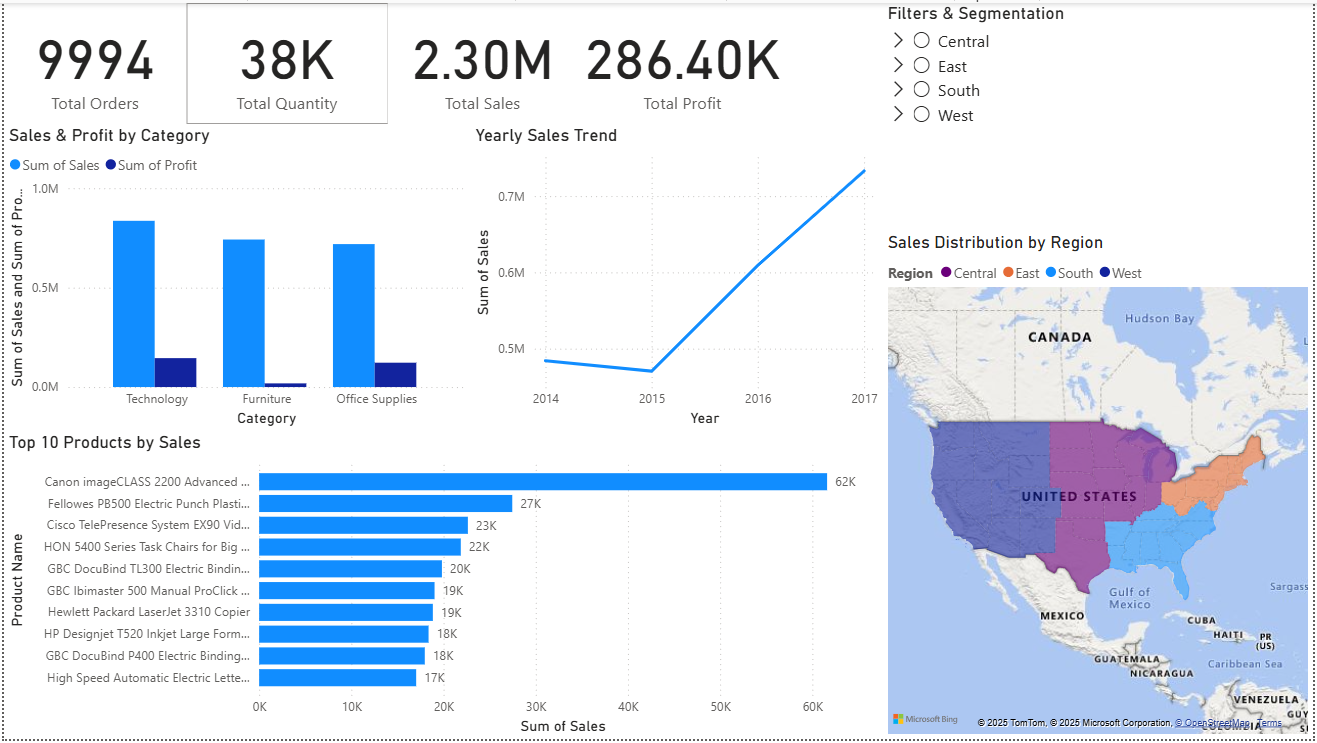

The page's visual inventory and layout, read from the dashboard file:
{"tool":"powerbi","page":{"name":"Overview Dashboard","canvas":[1280,720],"ordinal":0},"visuals":[{"type":"card","fields":{"Values":["CountNonNull(superstore_clean.Order ID)"]},"box":[0,0,178.5,118.6],"z":0},{"type":"card","fields":{"Values":["Sum(superstore_clean.Quantity)"]},"box":[178.5,0,196.9,118.6],"z":1000},{"type":"card","fields":{"Values":["Sum(superstore_clean.Profit)"]},"box":[561.3,0,205.4,118.6],"z":2000},{"type":"card","fields":{"Values":["Sum(superstore_clean.Sales)"]},"box":[375.4,0,185.9,118.6],"z":3000},{"type":"lineChart","title":"Yearly Sales Trend","fields":{"Category":["superstore_clean.Order Date.Variation.Date Hierarchy.Year","superstore_clean.Order Date.Variation.Date Hierarchy.Quarter","superstore_clean.Order Date.Variation.Date Hierarchy.Month","superstore_clean.Order Date.Variation.Date Hierarchy.Day"],"Y":["Sum(superstore_clean.Sales)"]},"box":[456.1,118.6,403.5,300.8],"z":4000},{"type":"clusteredColumnChart","title":"Sales & Profit by Category","fields":{"Category":["superstore_clean.Category"],"Y":["Sum(superstore_clean.Sales)","Sum(superstore_clean.Profit)"]},"box":[0,118.6,456.1,300.8],"z":5000},{"type":"filledMap","title":"Sales Distribution by Region","fields":{"Category":["superstore_clean.State"],"Series":["superstore_clean.Region"]},"box":[859.7,223.8,420.7,496.5],"z":6000},{"type":"clusteredBarChart","title":"Top 10 Products by Sales","fields":{"Category":["superstore_clean.Product Name"],"Y":["Sum(superstore_clean.Sales)"]},"box":[0,419.4,859.7,300.8],"z":7000},{"type":"listSlicer","title":"Filters & Segmentation","fields":{"Values":["superstore_clean.Region","superstore_clean.Category","superstore_clean.Order Date.Variation.Date Hierarchy.Year","superstore_clean.Order Date.Variation.Date Hierarchy.Quarter","superstore_clean.Order Date.Variation.Date Hierarchy.Month","superstore_clean.Order Date.Variation.Date Hierarchy.Day"]},"box":[859.7,0,420.7,223.8],"z":8000}]}

Visuals, with their boxes in screenshot pixels (x1, y1, x2, y2), scaled from the page's 1280x720 canvas onto the 1317x743 screenshot:
card - CountNonNull(superstore_clean.Order ID): x1=0 y1=0 x2=184 y2=122
card - Sum(superstore_clean.Quantity): x1=184 y1=0 x2=386 y2=122
card - Sum(superstore_clean.Profit): x1=578 y1=0 x2=789 y2=122
card - Sum(superstore_clean.Sales): x1=386 y1=0 x2=578 y2=122
"Yearly Sales Trend" lineChart: x1=469 y1=122 x2=884 y2=433
"Sales & Profit by Category" clusteredColumnChart: x1=0 y1=122 x2=469 y2=433
"Sales Distribution by Region" filledMap: x1=885 y1=231 x2=1316 y2=742
"Top 10 Products by Sales" clusteredBarChart: x1=0 y1=433 x2=885 y2=742
"Filters & Segmentation" listSlicer: x1=885 y1=0 x2=1316 y2=231
